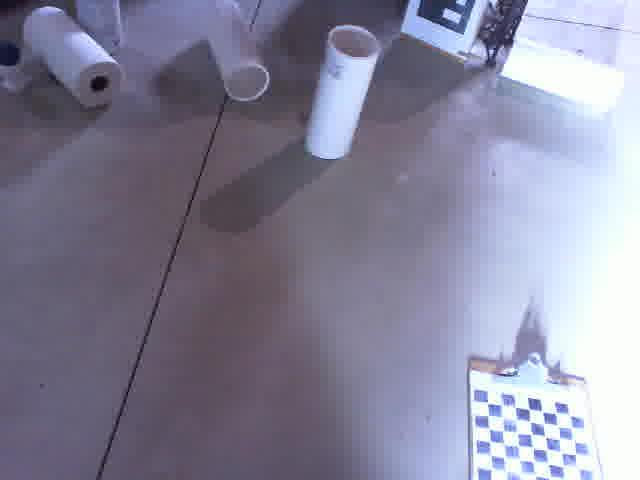coral: (295, 20, 388, 166), (196, 0, 276, 107), (65, 0, 130, 69)
